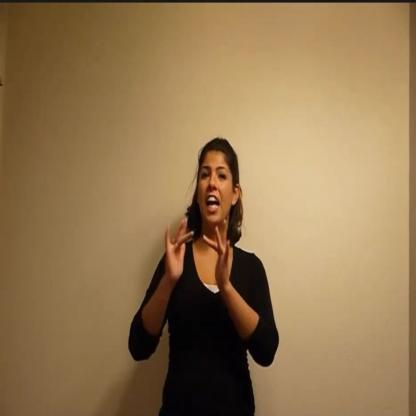Internet: (127, 132, 284, 410)
